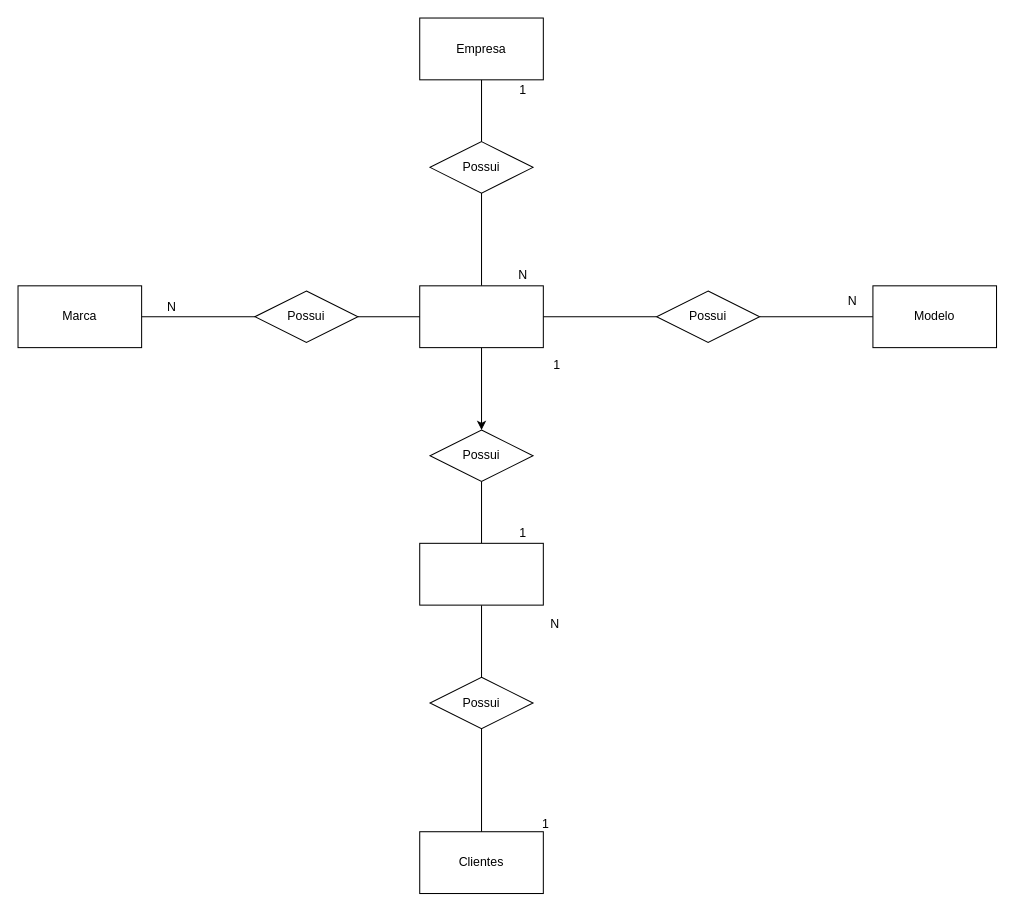
The diagram is 1015 pixels wide and 912 high, and some of its shapes have lost their labels. The shapes that lost their labels are listed below. From the top down, each one's centre as x and y in pixels, then its label:
At point (481, 316): "Veículos".
At point (481, 573): "Aluguel".
